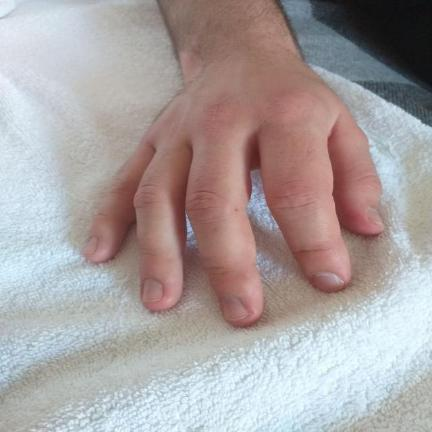Nail: (220, 297, 249, 322), (312, 271, 346, 292), (142, 278, 164, 302), (83, 236, 99, 256), (368, 207, 383, 228)
